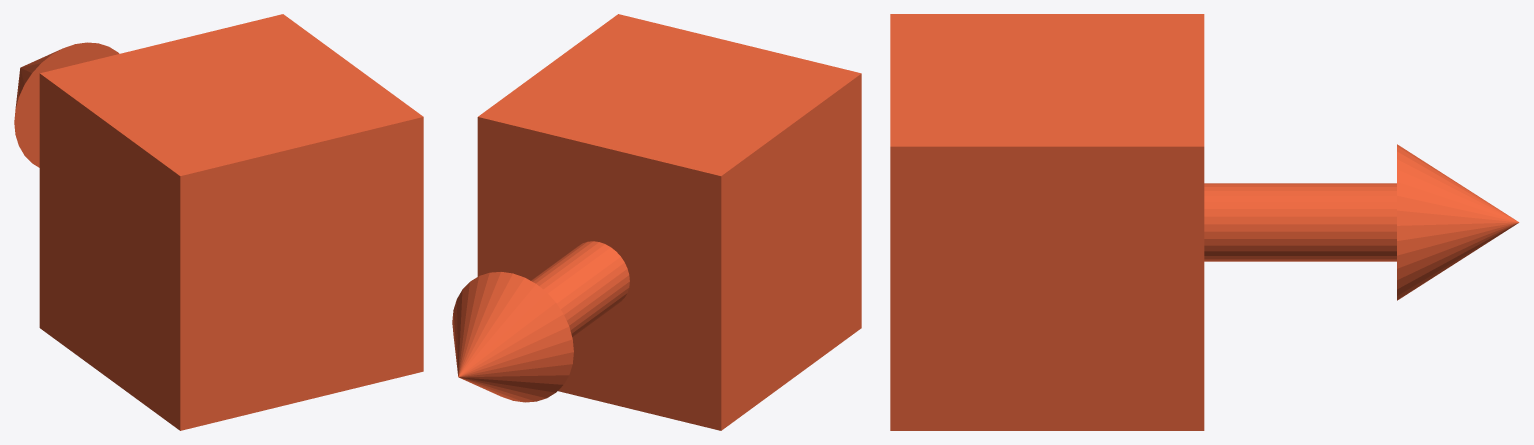
The model's file is DirectionalLight.glb.
3 views of the same model, side by side, from view 1: azimuth 30°, elevation 25°; view 2: azimuth 150°, elevation 25°; view 3: azimuth 270°, elevation 25° (orthographic). The views are drawn at different scales.
Parts seen in each view (by area): view 1: DirectionalLight; view 2: DirectionalLight; view 3: DirectionalLight.
Boxes of the visible parts, x1,y1,x2,y2 form: DirectionalLight: [14, 14, 423, 430]; DirectionalLight: [452, 14, 861, 430]; DirectionalLight: [890, 14, 1519, 430].
Bounding box in the file's own units: 1 × 1 × 2.01.
